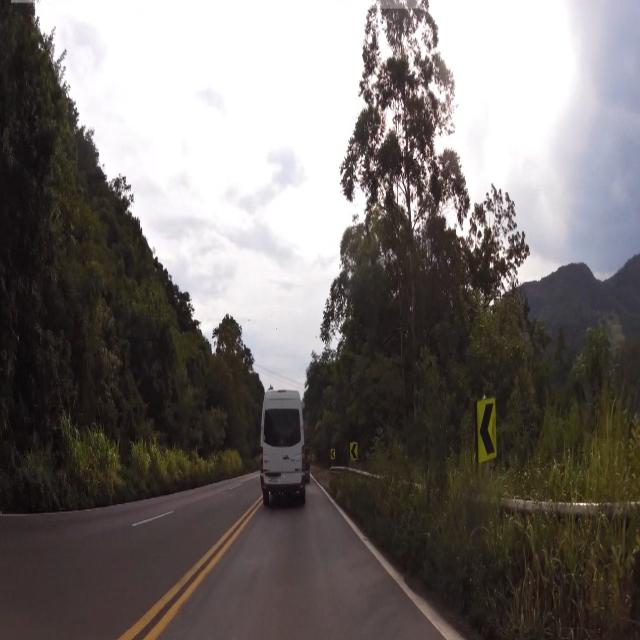Del: (476, 397, 496, 468)
